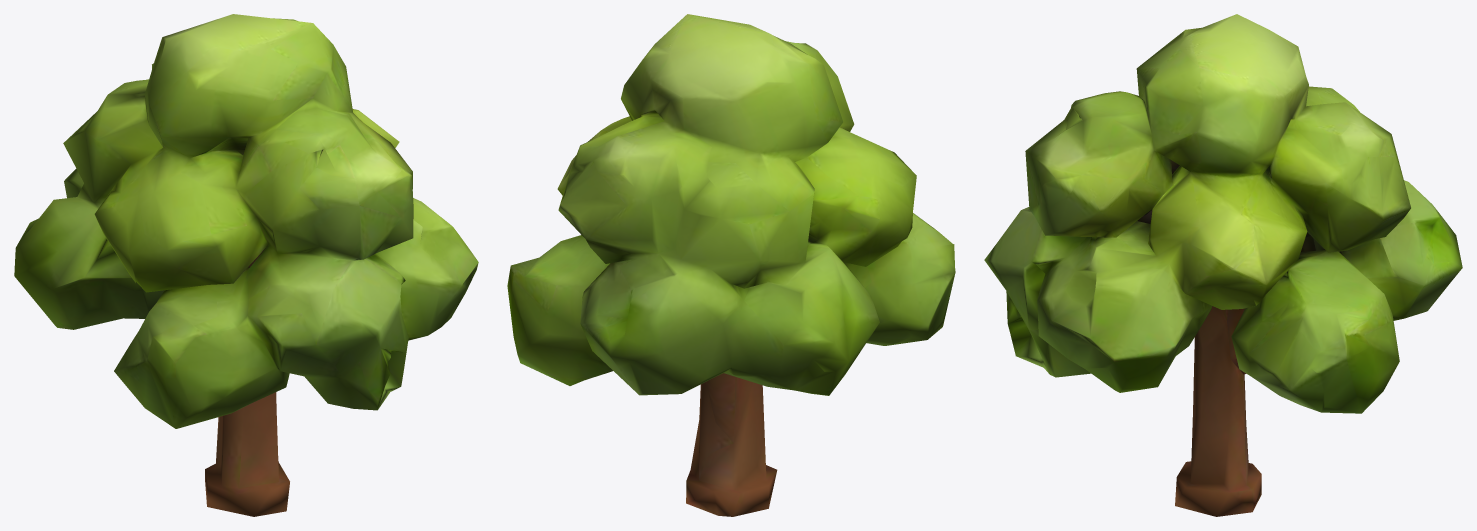
File: arvore.glb
3 views of the same model, side by side, from view 1: azimuth 30°, elevation 25°; view 2: azimuth 150°, elevation 25°; view 3: azimuth 270°, elevation 25° (orthographic). The views are drawn at different scales.
Parts seen in each view (by area): view 1: tripo_node_b529bd29-aa63-432b-baef-1d1949d15b35; view 2: tripo_node_b529bd29-aa63-432b-baef-1d1949d15b35; view 3: tripo_node_b529bd29-aa63-432b-baef-1d1949d15b35.
Part boxes in pixels (left/top/right/bottom): tripo_node_b529bd29-aa63-432b-baef-1d1949d15b35: left=14, top=14, right=478, bottom=516; tripo_node_b529bd29-aa63-432b-baef-1d1949d15b35: left=507, top=14, right=955, bottom=516; tripo_node_b529bd29-aa63-432b-baef-1d1949d15b35: left=984, top=14, right=1462, bottom=516.
Bounding box in the file's own units: 0.7772 × 1 × 0.9438.
Materials: 1 (1 with a texture image).
